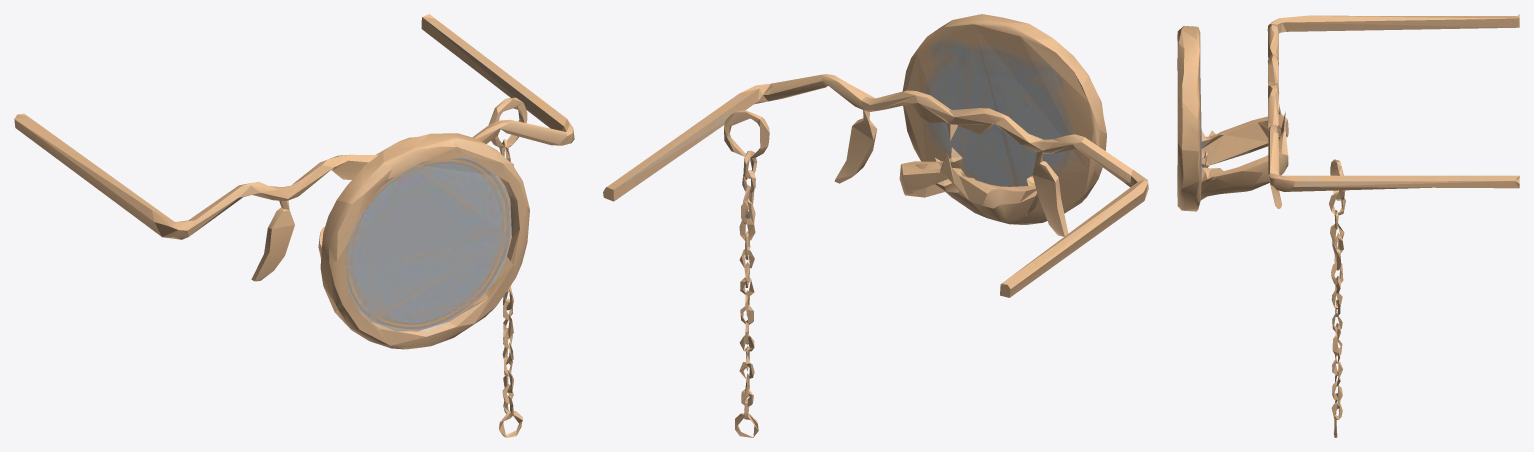
File: monocle.glb
3 renders of one model, left to right at view 1: azimuth 30°, elevation 25°; view 2: azimuth 150°, elevation 25°; view 3: azimuth 270°, elevation 25°, orthographic. The views are drawn at different scales.
Size of the model in its own units: 1.9 by 1.76 by 1.65.
1 material, 1 textured.
